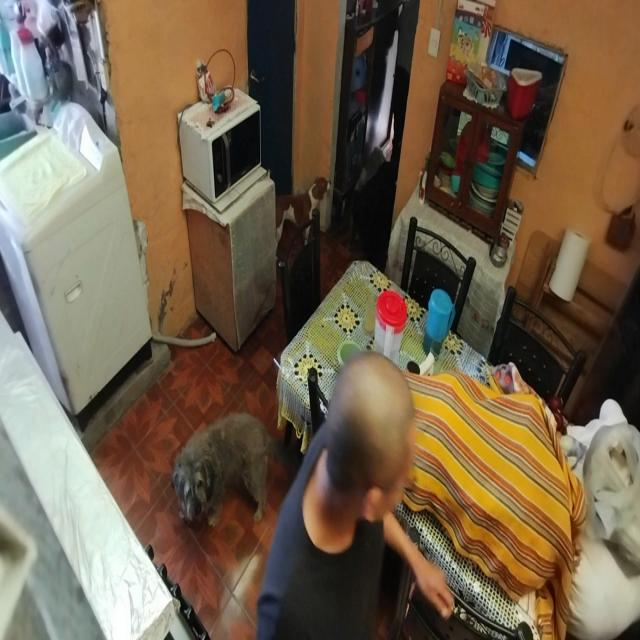adult: (253, 354, 453, 640)
